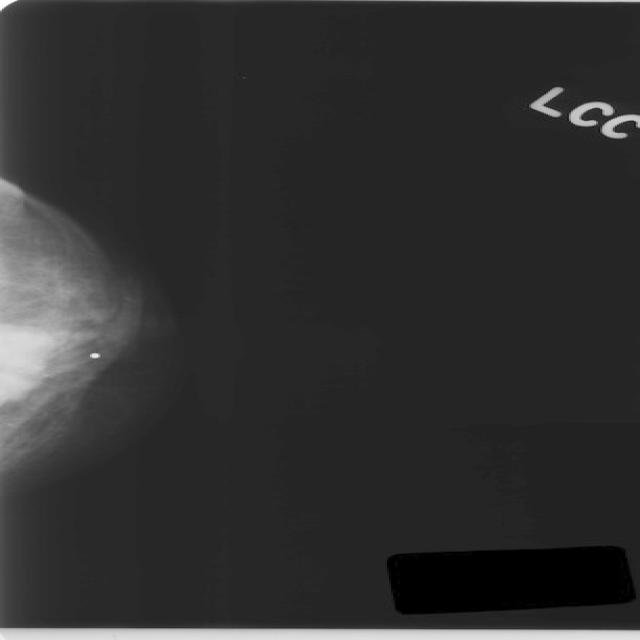tumour: (0, 323, 59, 402)
